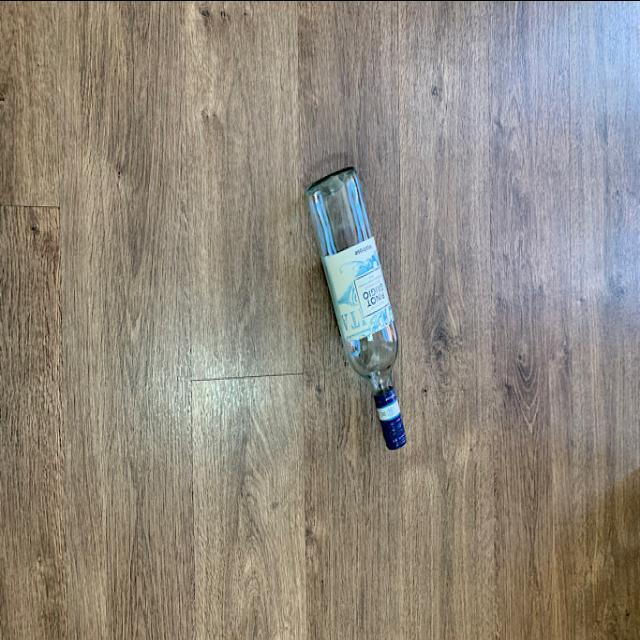litter: (305, 154, 415, 456)
